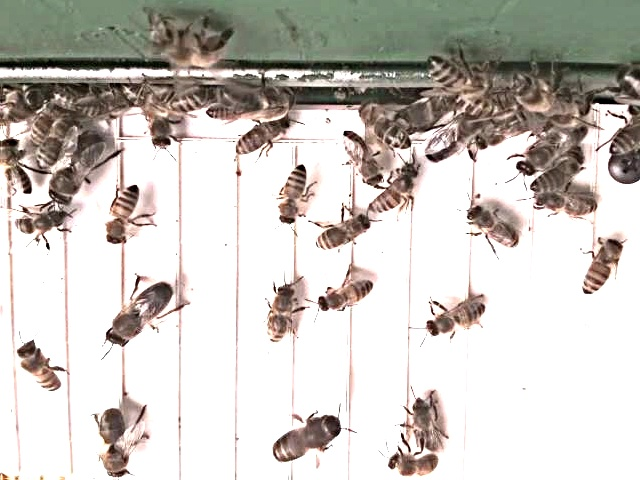Drone: (104, 280, 174, 351), (47, 132, 106, 209), (514, 120, 587, 179), (268, 412, 343, 468), (419, 113, 483, 168), (94, 406, 131, 480)
Worker: (421, 300, 488, 339), (364, 166, 416, 216), (356, 108, 413, 153), (104, 181, 141, 250), (529, 187, 598, 224), (464, 208, 522, 251), (528, 155, 586, 198), (339, 129, 380, 189), (231, 118, 291, 159), (580, 239, 620, 300), (18, 343, 62, 396), (310, 216, 369, 255), (274, 164, 308, 230), (34, 116, 71, 173), (314, 280, 374, 315), (0, 138, 34, 198), (263, 284, 294, 348), (142, 87, 210, 115), (10, 208, 71, 239), (409, 397, 440, 455), (383, 452, 439, 480)
